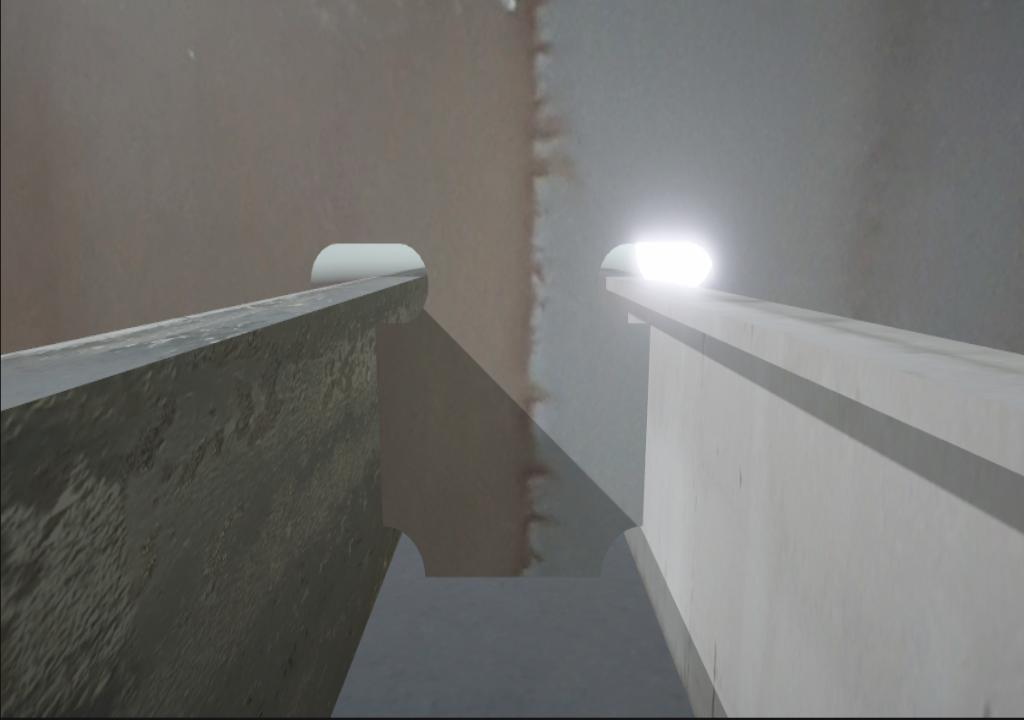fillet_yong_jeop_jang: (421, 568, 606, 589)
longi_yong_jeop_jang: (634, 316, 663, 532), (369, 315, 397, 536), (383, 527, 426, 578), (601, 526, 643, 577)
